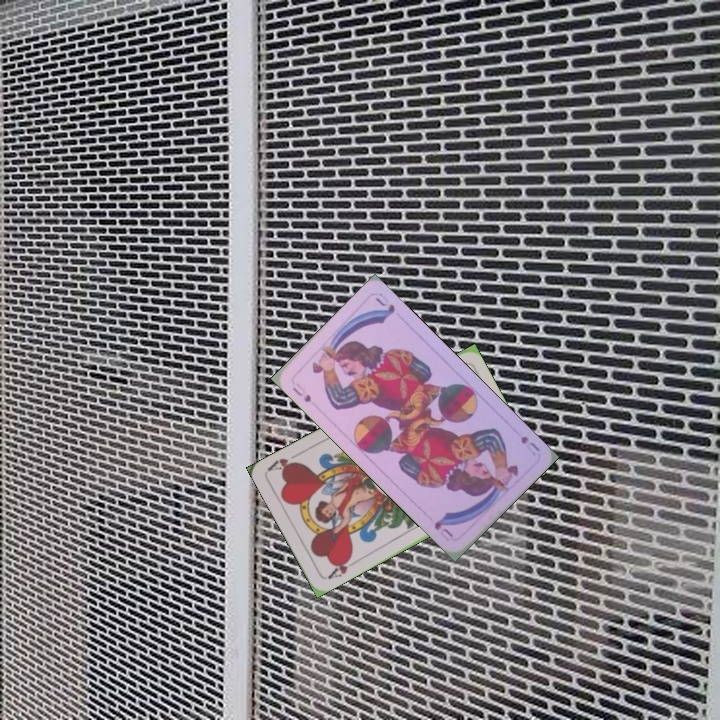HA: (323, 552, 360, 582)
SU: (517, 432, 543, 458), (288, 383, 314, 405)
